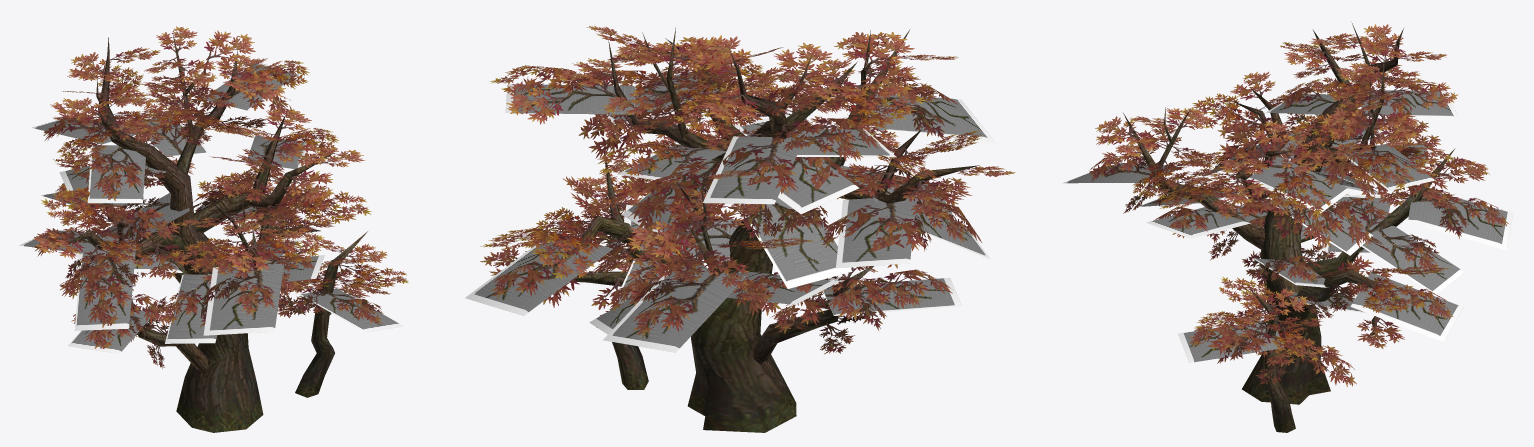
The model's file is S_Tree_Red025.FBX.
3 renders of one model, left to right at view 1: azimuth 30°, elevation 25°; view 2: azimuth 150°, elevation 25°; view 3: azimuth 270°, elevation 25°, orthographic. The views are drawn at different scales.
Parts seen in each view (by area): view 1: S_Tree_Red025; view 2: S_Tree_Red025; view 3: S_Tree_Red025.
Boxes of the visible parts, <box> form: S_Tree_Red025: <box>19,26,408,432</box>; S_Tree_Red025: <box>465,25,1015,432</box>; S_Tree_Red025: <box>1063,23,1512,432</box>.
Size of the model in its own units: 300 by 254 by 311.
